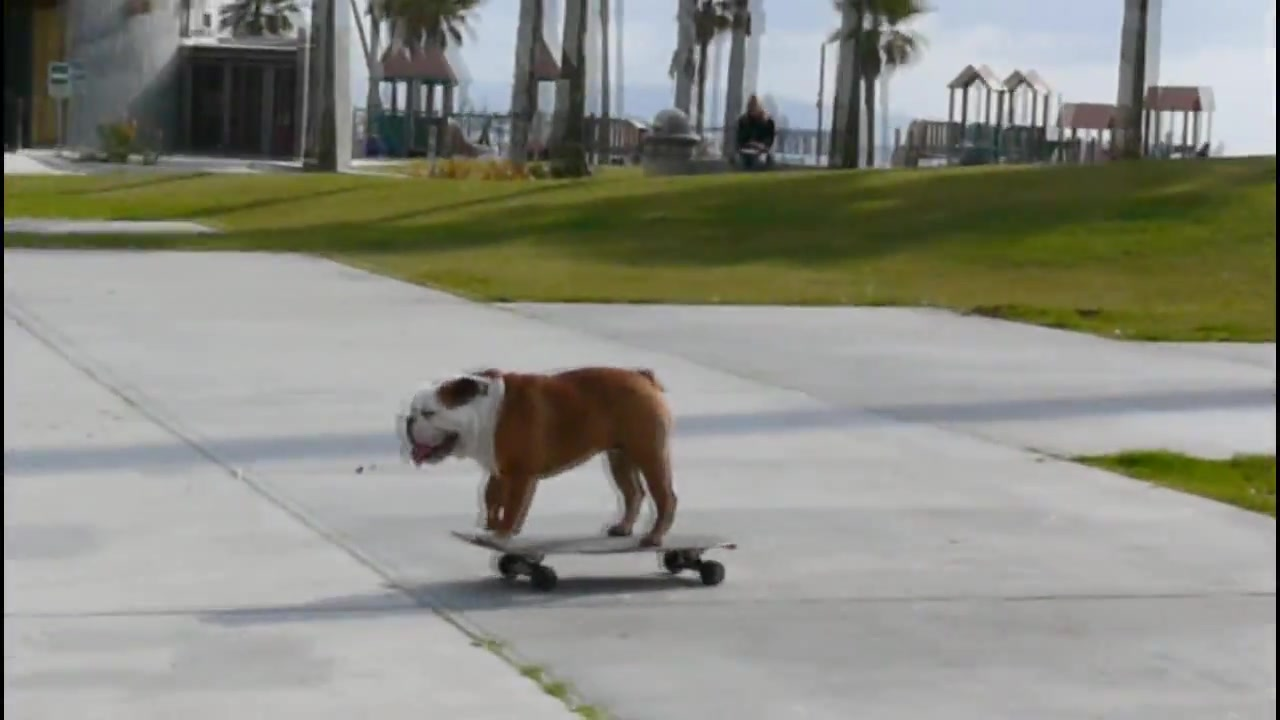dog: (403, 365, 683, 543)
